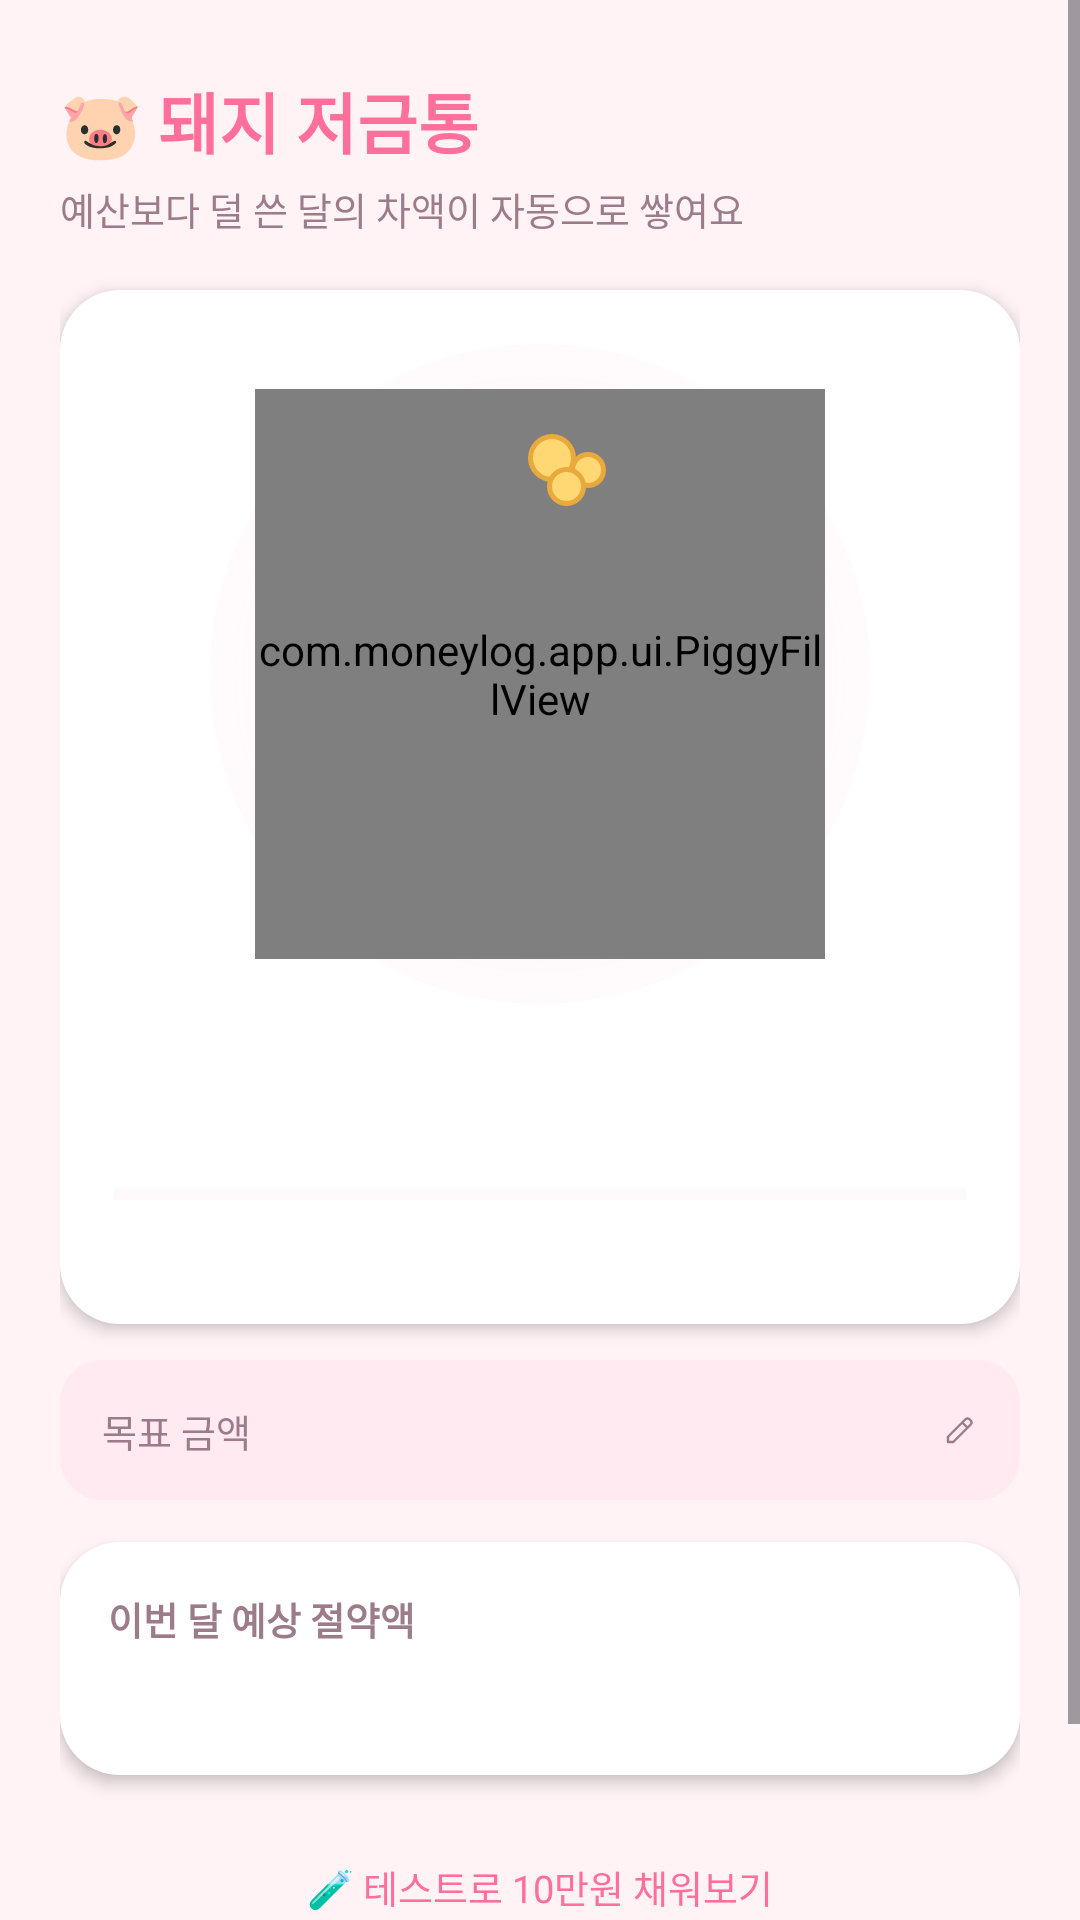

Icons on this 1080x1920 Android screen, each with the point to tap as (x=x, y=y):
edit pencil: (x=959, y=1430)
